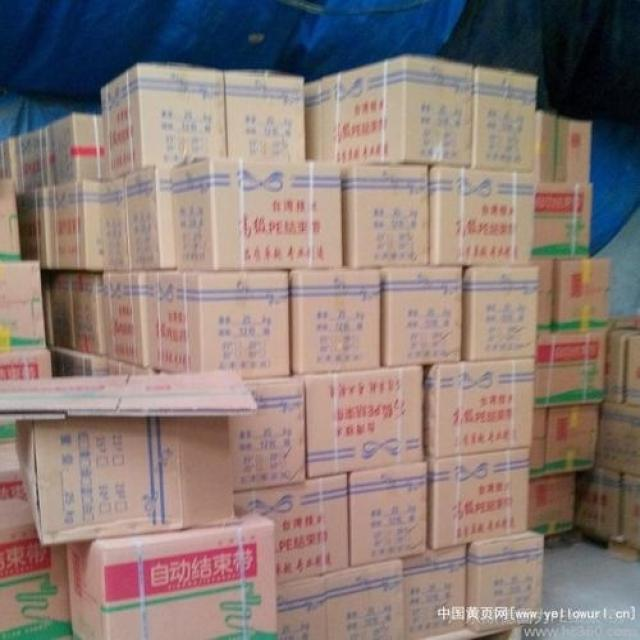box: (65, 504, 278, 639), (17, 417, 241, 545), (170, 157, 343, 270), (321, 54, 475, 169), (146, 270, 291, 380), (99, 63, 227, 178), (301, 365, 425, 477), (236, 473, 349, 582), (0, 468, 70, 639), (424, 357, 535, 457), (429, 165, 536, 265), (426, 448, 531, 549), (289, 268, 381, 375), (229, 374, 306, 492), (342, 164, 429, 268), (349, 462, 428, 567), (381, 266, 463, 366), (467, 530, 544, 631), (463, 266, 541, 361), (225, 69, 306, 158), (321, 559, 406, 637), (475, 67, 539, 169), (402, 545, 466, 639), (534, 331, 607, 409), (127, 169, 175, 271), (530, 183, 593, 259), (50, 181, 101, 270), (104, 273, 151, 367), (553, 258, 612, 332), (0, 260, 46, 352), (49, 112, 104, 186), (545, 404, 600, 476), (575, 466, 622, 540), (279, 574, 328, 639), (598, 401, 639, 475), (99, 175, 129, 271), (18, 186, 52, 270), (529, 473, 575, 535), (72, 274, 106, 355), (15, 125, 55, 189), (607, 328, 640, 403), (536, 111, 570, 183), (0, 179, 22, 261), (50, 274, 74, 348), (530, 259, 553, 331), (0, 350, 52, 379), (570, 121, 593, 182), (306, 78, 323, 159), (623, 473, 640, 548), (63, 350, 109, 376), (625, 332, 640, 405), (41, 273, 54, 345), (109, 357, 151, 375), (0, 138, 17, 181), (49, 347, 74, 376), (0, 443, 20, 470), (532, 438, 545, 478), (532, 408, 548, 439), (616, 314, 640, 328), (0, 423, 15, 442)
